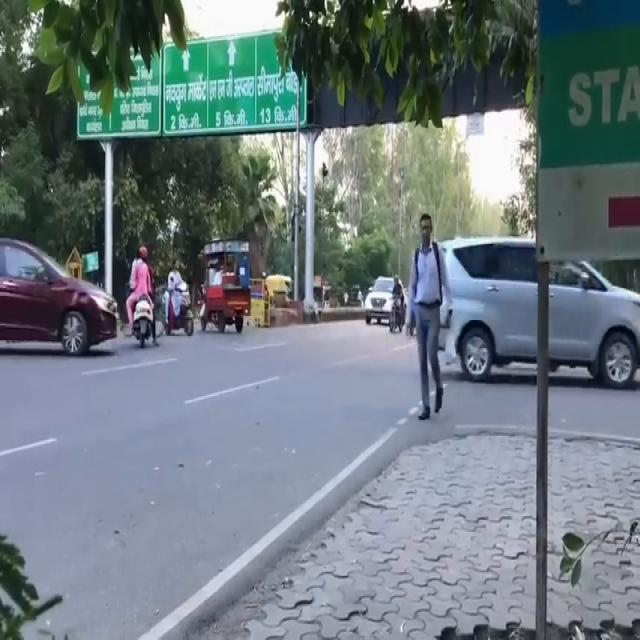MOTORCYCLE: (133, 281, 153, 349), (388, 290, 405, 334)
SUV: (440, 232, 640, 393)
